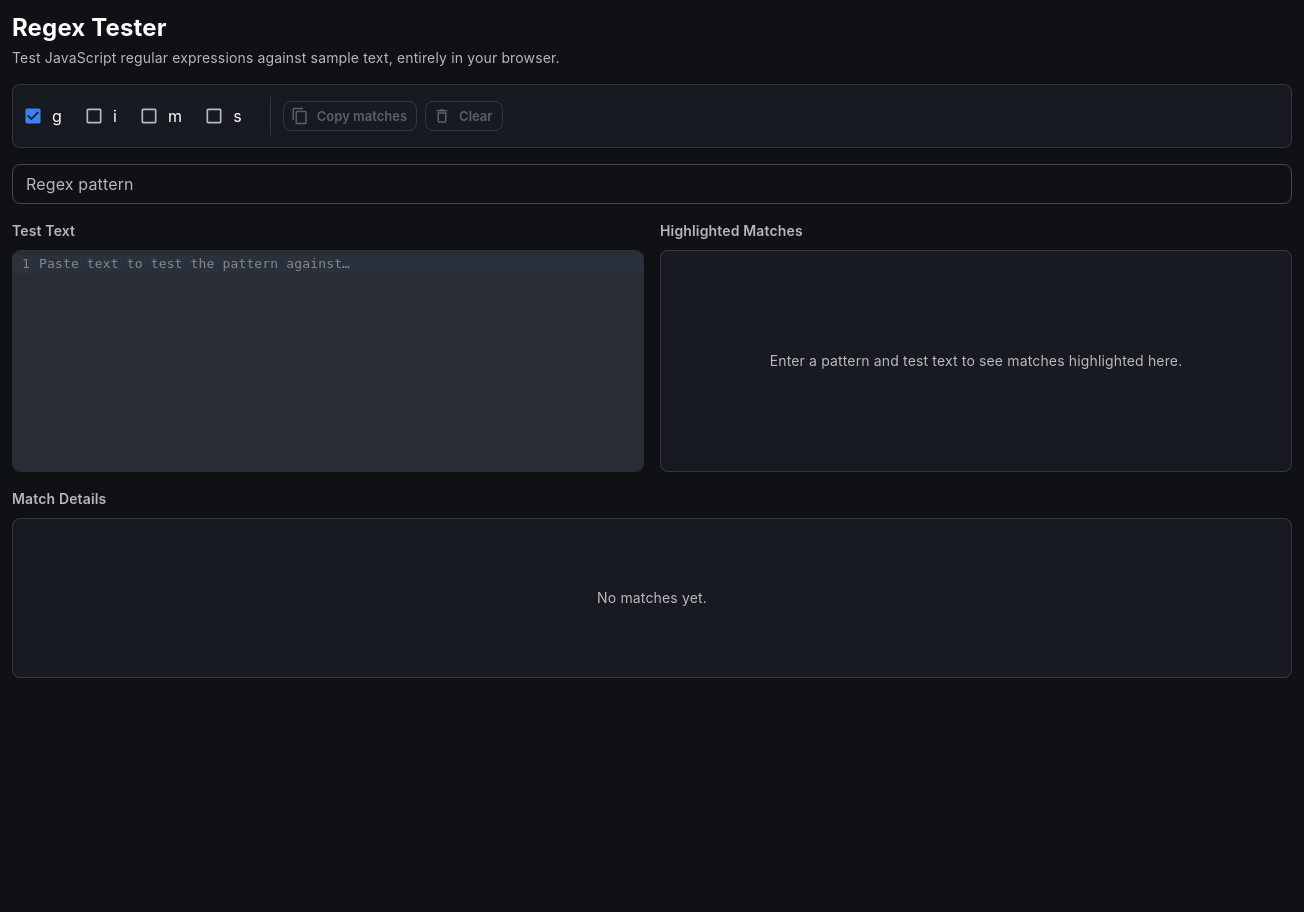
it: RegexTesterPage › shows an error message for an invalid pattern
Click the field labelled "Regex pattern". click: point(652, 184)
box: [12,164,1292,204]
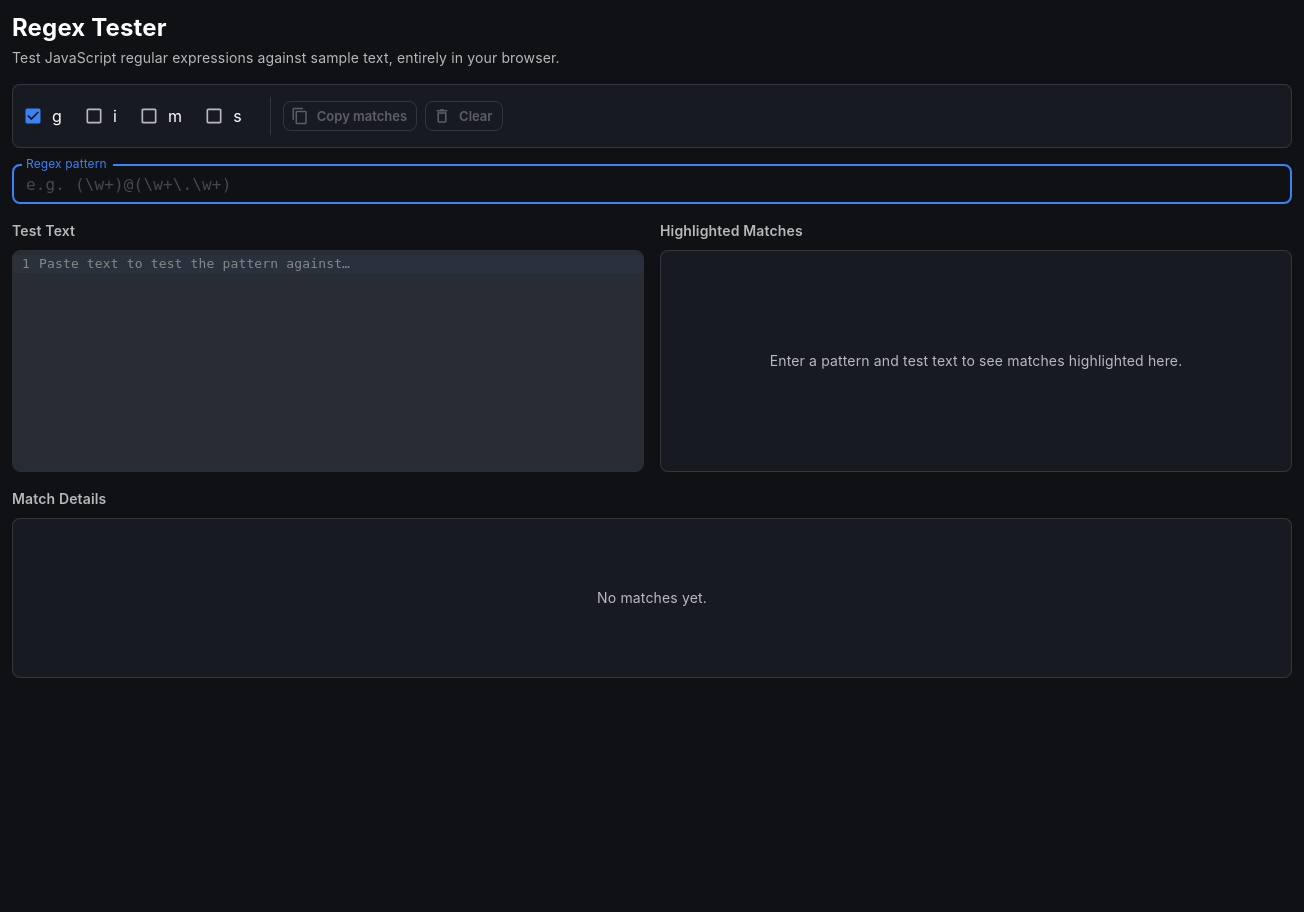
Type keys "(unclosed"
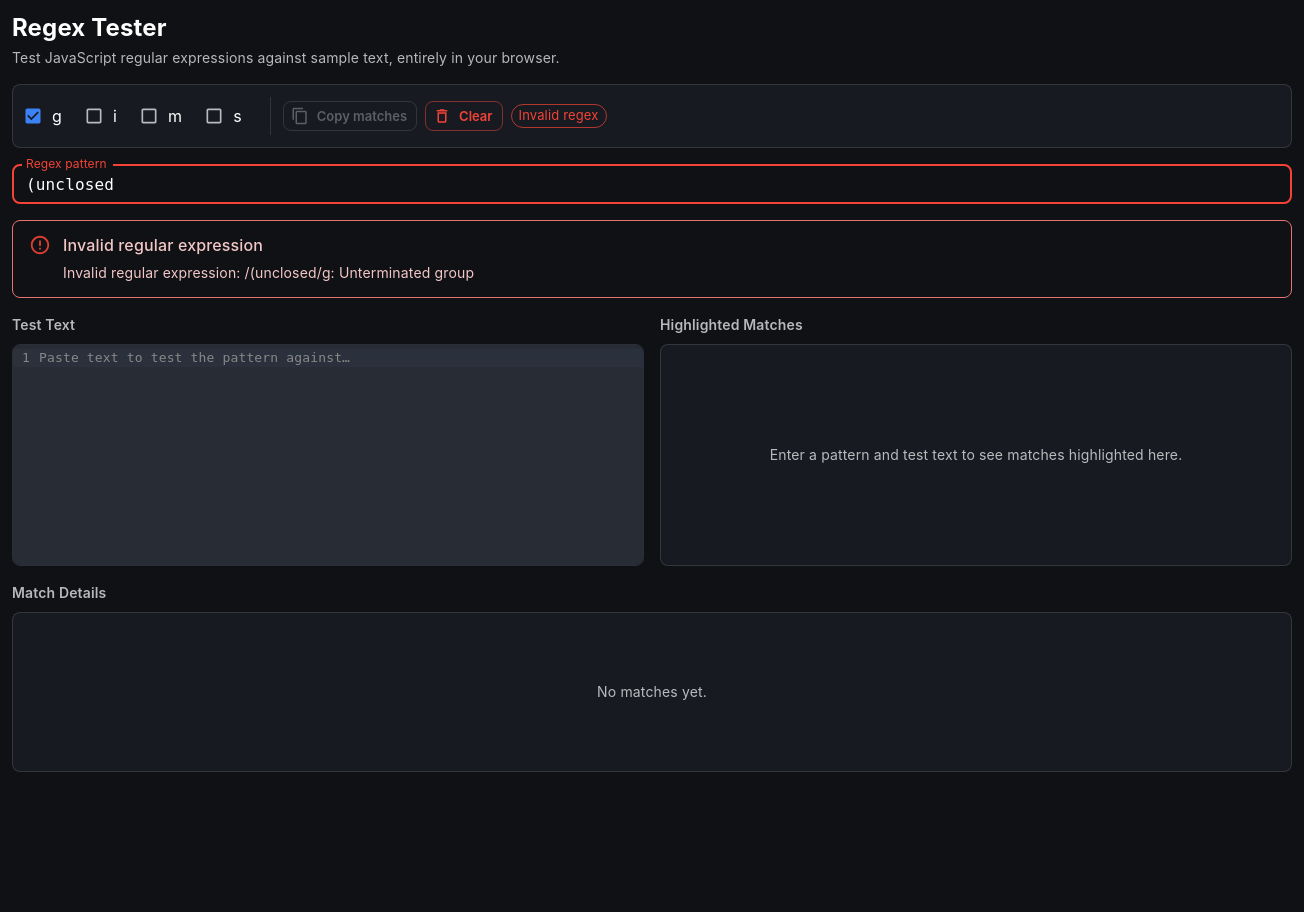
Now the text "Invalid regular expression" is shown, box [63,235,263,255]
Now the message is shown, box [12,220,1292,298]
